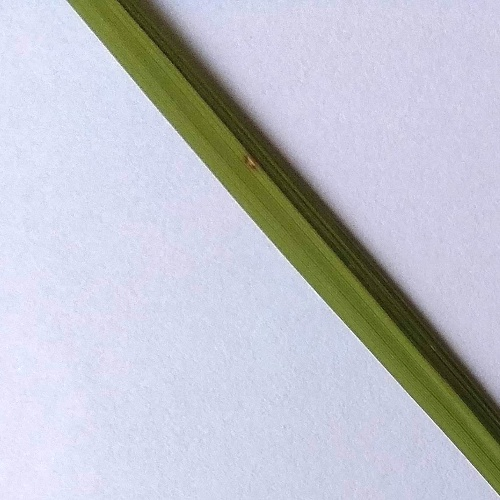Busuk Leher: (239, 143, 263, 181)
